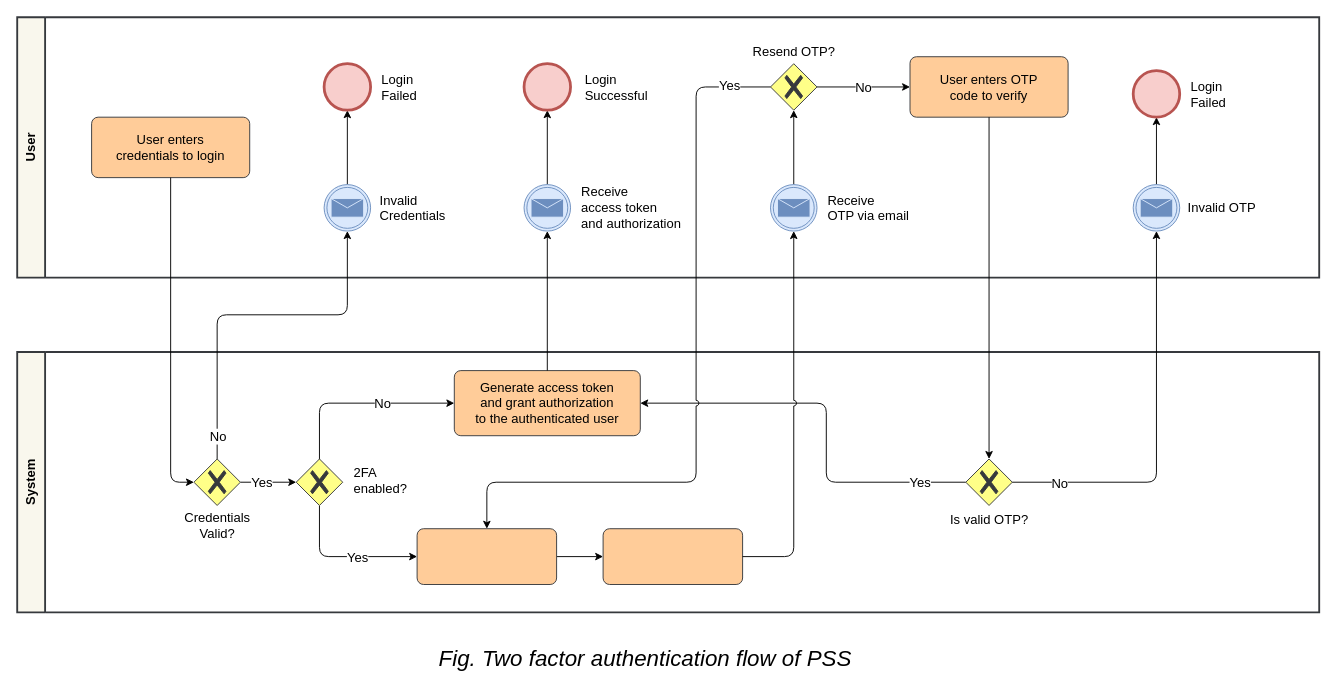
Image size: 1335x693. Some labels were removed from this diagram. Each missing label, with the centre of its shape:
Generate OTP with expiration time: point 486,556
Send generated OTP to user's email: point 672,556
